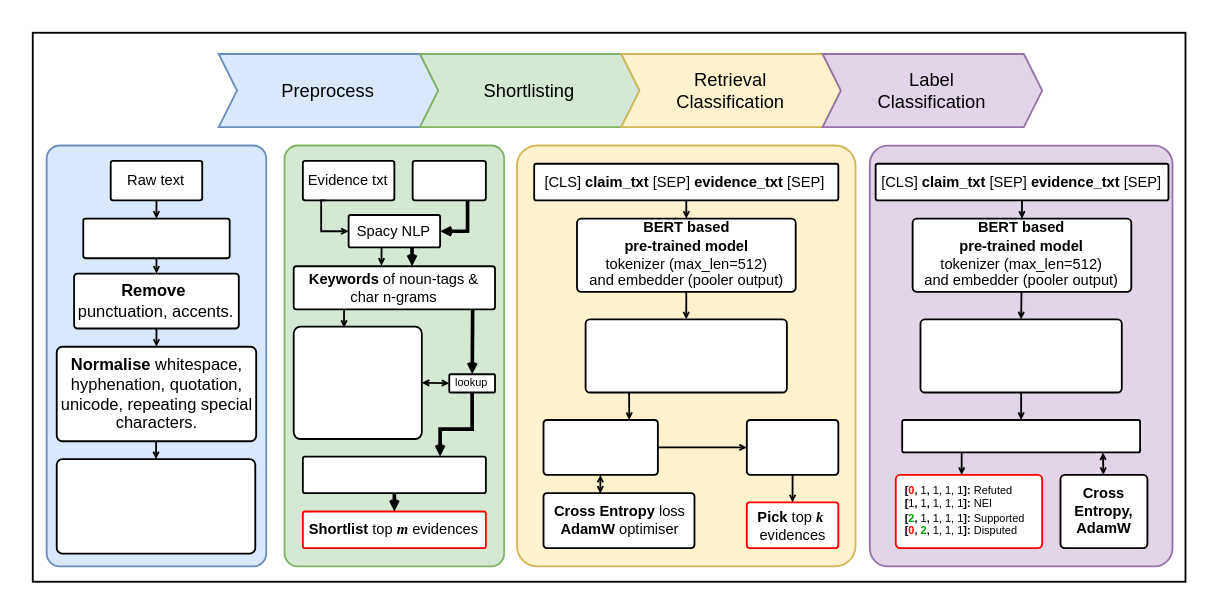
Some shapes in this 1217 by 613 pixel diagram are drawn without their labels. The shapes that lost their labels are listed below. From the top down, each one's centre as x and y in pixels, then its label:
the point at 448,179: Claim txt
the point at 155,237: Set lower-case.
the point at 685,355: Classification Head Dropout (p=0.1) Linear (out_dim=2) Softmax
the point at 1020,355: Classification Head Dropout (p=0.1) Linear (out_dim=3) Softmax
the point at 357,382: Keyword-evidence index (climate): [ids...] (clim): [ids...] (mate): [ids...]
the point at 600,446: [0]: Not related [1]: Related
the point at 791,446: Rank by [1] probability
the point at 1020,435: [0]: Refutes [1]: NEI [2]: Supports
the point at 393,474: IDF score per evidence id
the point at 155,505: Replace special tokens. CO2 → carbon dioxide ℃ → degree celcius
